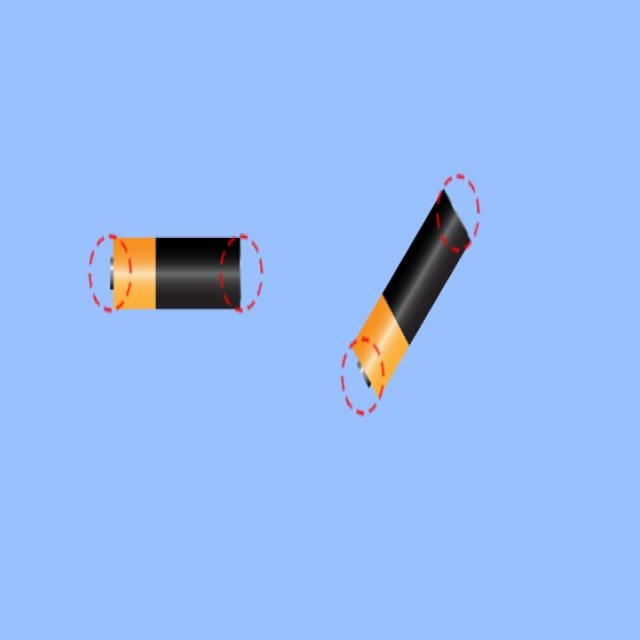Battery: (351, 190, 469, 396), (110, 238, 240, 309)
